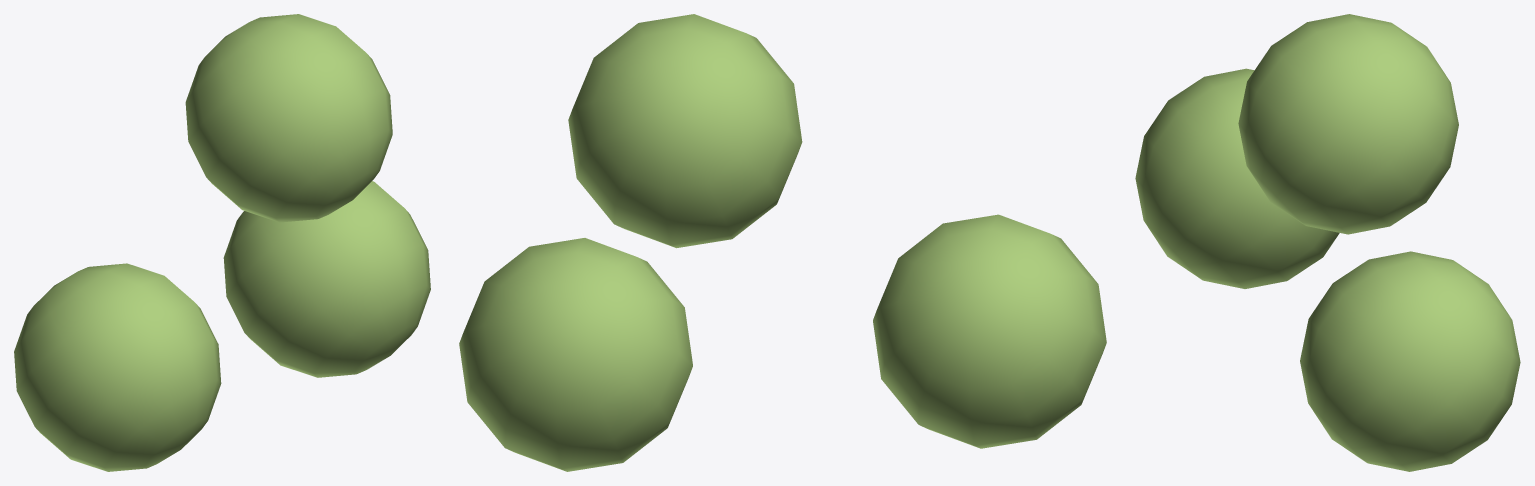
Rendered from subaortic-nodes.glb.
The picture shows the model from 3 angles, left to right: view 1: azimuth 30°, elevation 25°; view 2: azimuth 150°, elevation 25°; view 3: azimuth 270°, elevation 25°; orthographic projection. The views are drawn at different scales.
Visible parts, largest first — view 1: Subaortic nodes; view 2: Subaortic nodes; view 3: Subaortic nodes.
Boxes of the visible parts, <box> form: Subaortic nodes: <box>14,14,430,471</box>; Subaortic nodes: <box>459,14,1106,471</box>; Subaortic nodes: <box>1135,14,1520,471</box>.
Size of the model in its own units: 0.00665 by 0.00523 by 0.00454.
